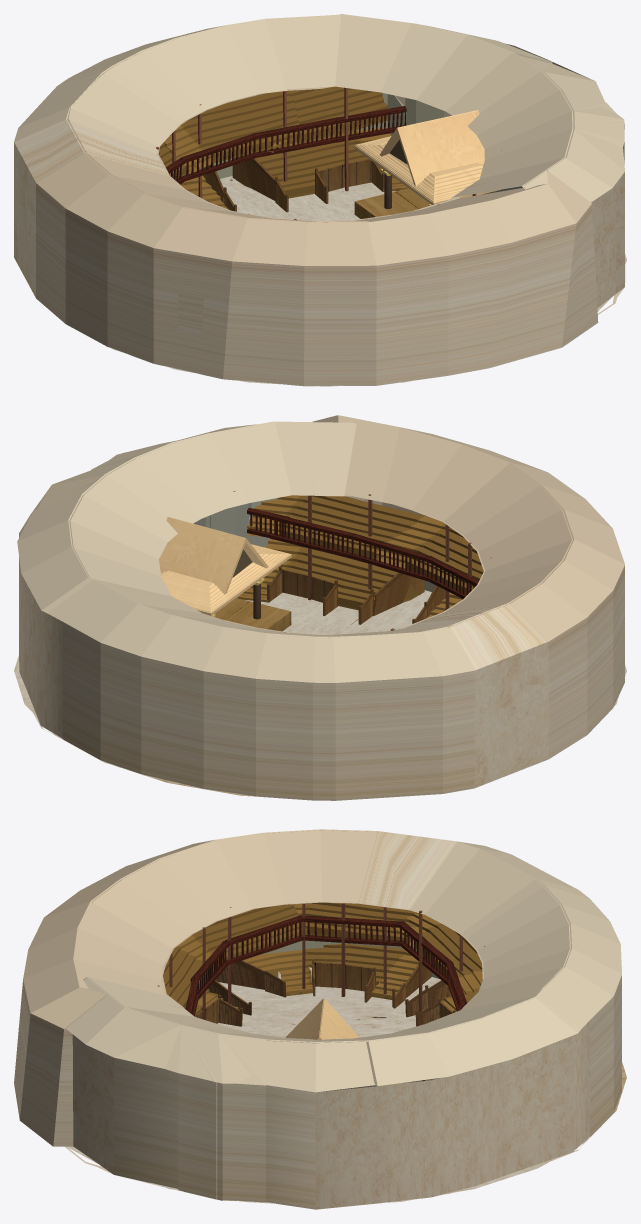
The model's file is Globe_v5.fbx.
The picture shows the model from 3 angles, top to bottom: view 1: azimuth 30°, elevation 25°; view 2: azimuth 150°, elevation 25°; view 3: azimuth 270°, elevation 25°; orthographic projection.
Visible parts, largest first — view 1: pCube250, pCube258, pCube257, pCube256, pCube254, pCube34, pDisc1, pCube29, polySurface47, pCube1, polySurface32, polySurface7; view 2: pCube250, pCube258, pCube257, pCube256, pCube254, pDisc1, pCube33, pCube29, pCube1, pCube68, polySurface50, pCube50; view 3: pCube250, pCube257, pCube258, pCube256, pDisc1, pCube254, polySurface60, pCube33, pCube34, pCube154, pCube155, pCube152.
Part boxes in pixels (x1,y1,x2,y2): pCube250: (14, 14, 625, 386); pCube258: (49, 14, 624, 302); pCube257: (45, 14, 625, 307); pCube256: (159, 86, 408, 209); pCube254: (166, 106, 406, 184); pCube34: (396, 110, 484, 186); pDisc1: (109, 176, 626, 386); pCube29: (354, 136, 500, 204); polySurface47: (213, 93, 444, 178); pCube1: (354, 188, 429, 218); polySurface32: (233, 157, 275, 200); polySurface7: (343, 159, 371, 187); pCube250: (17, 415, 624, 800); pCube258: (33, 415, 622, 760); pCube257: (34, 418, 623, 787); pCube256: (238, 495, 483, 618); pCube254: (247, 508, 478, 598); pDisc1: (14, 590, 626, 797); pCube33: (159, 517, 245, 594); pCube29: (160, 544, 291, 615); pCube1: (214, 598, 291, 631); pCube68: (193, 491, 435, 598); polySurface50: (373, 572, 423, 616); pCube50: (282, 569, 307, 598); pCube250: (14, 829, 621, 1209); pCube257: (72, 830, 591, 1188); pCube258: (25, 829, 604, 1200); pCube256: (163, 902, 482, 1019); pDisc1: (67, 967, 626, 1203); pCube254: (185, 915, 466, 1016); polySurface60: (213, 960, 265, 989); pCube33: (317, 998, 359, 1039); pCube34: (285, 998, 323, 1039); pCube154: (313, 962, 341, 987); pCube155: (345, 964, 372, 991); pCube152: (218, 995, 242, 1026).
Bounding box in the file's own units: 388 × 134 × 385.
